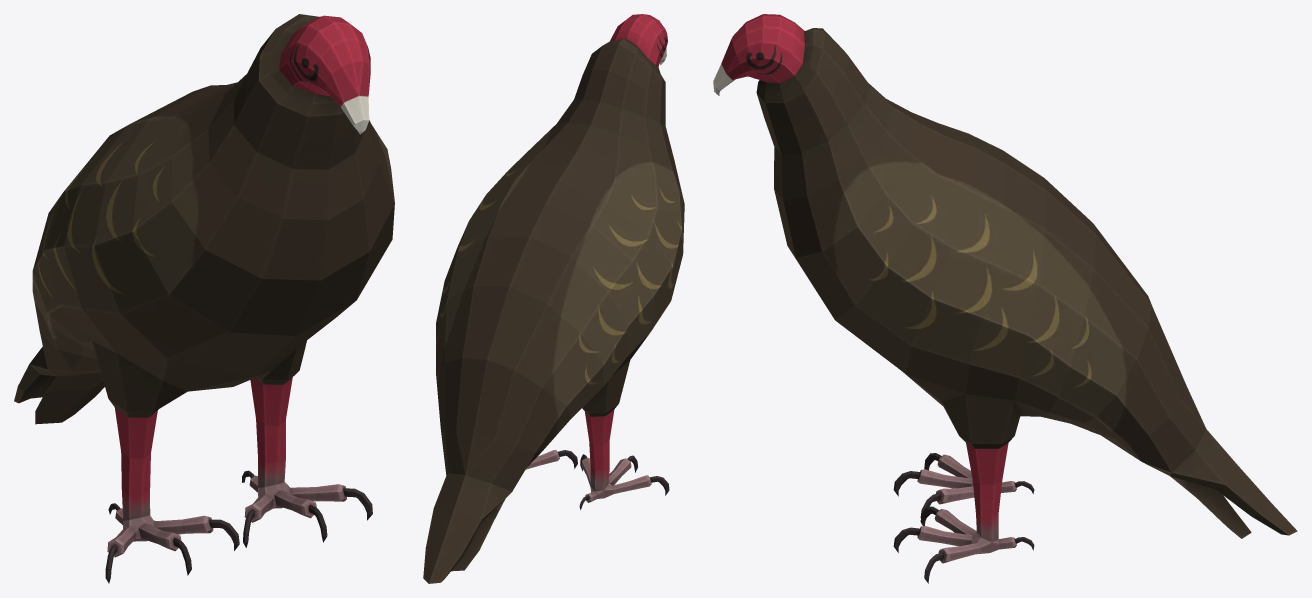
The model's file is prop_pz_turkey_vulture.glb.
3 renders of one model, left to right at view 1: azimuth 30°, elevation 25°; view 2: azimuth 150°, elevation 25°; view 3: azimuth 270°, elevation 25°, orthographic. The views are drawn at different scales.
Visible parts, largest first — view 1: TurkeyVulture_mesh2; view 2: TurkeyVulture_mesh2; view 3: TurkeyVulture_mesh2.
Part boxes in pixels (left/top/right/bottom): TurkeyVulture_mesh2: left=14, top=14, right=394, bottom=583; TurkeyVulture_mesh2: left=423, top=14, right=684, bottom=583; TurkeyVulture_mesh2: left=713, top=14, right=1297, bottom=583.
Bounding box in the file's own units: 5.38 × 10.81 × 11.09.
1 material, 1 textured.
